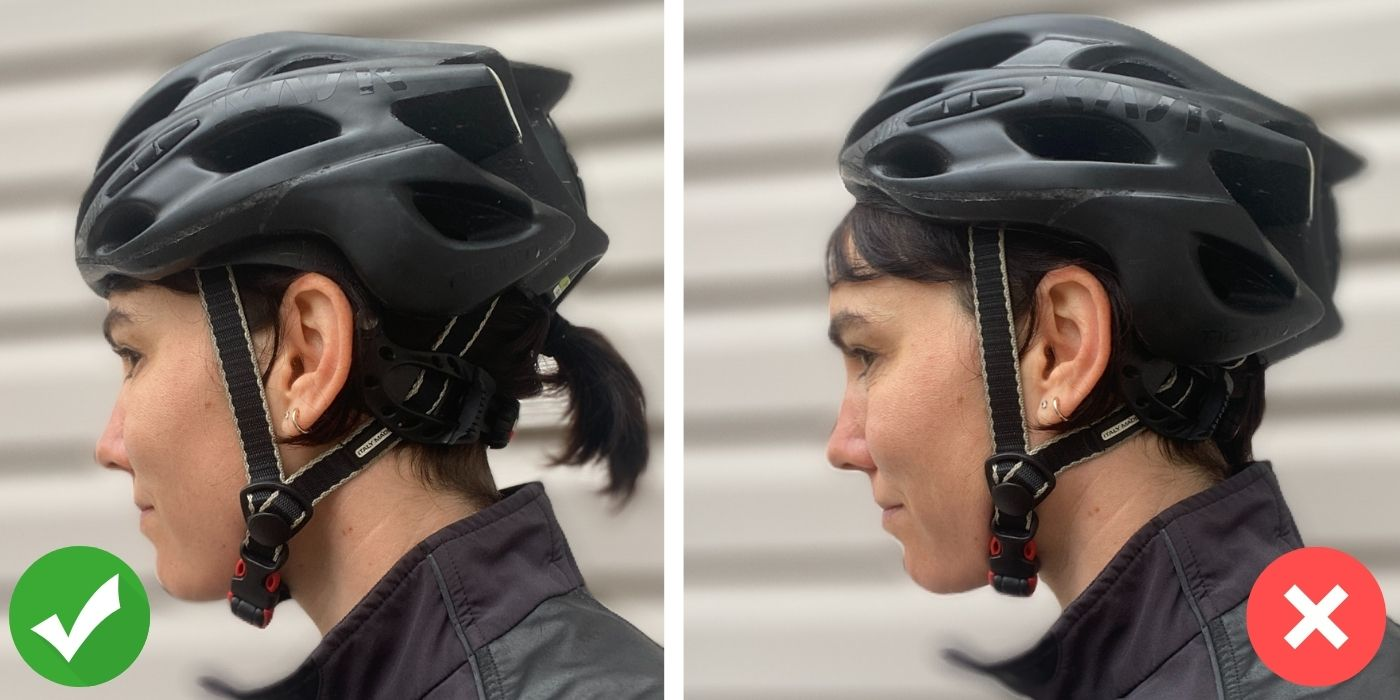helmet: (824, 13, 1368, 595), (73, 29, 610, 603)
